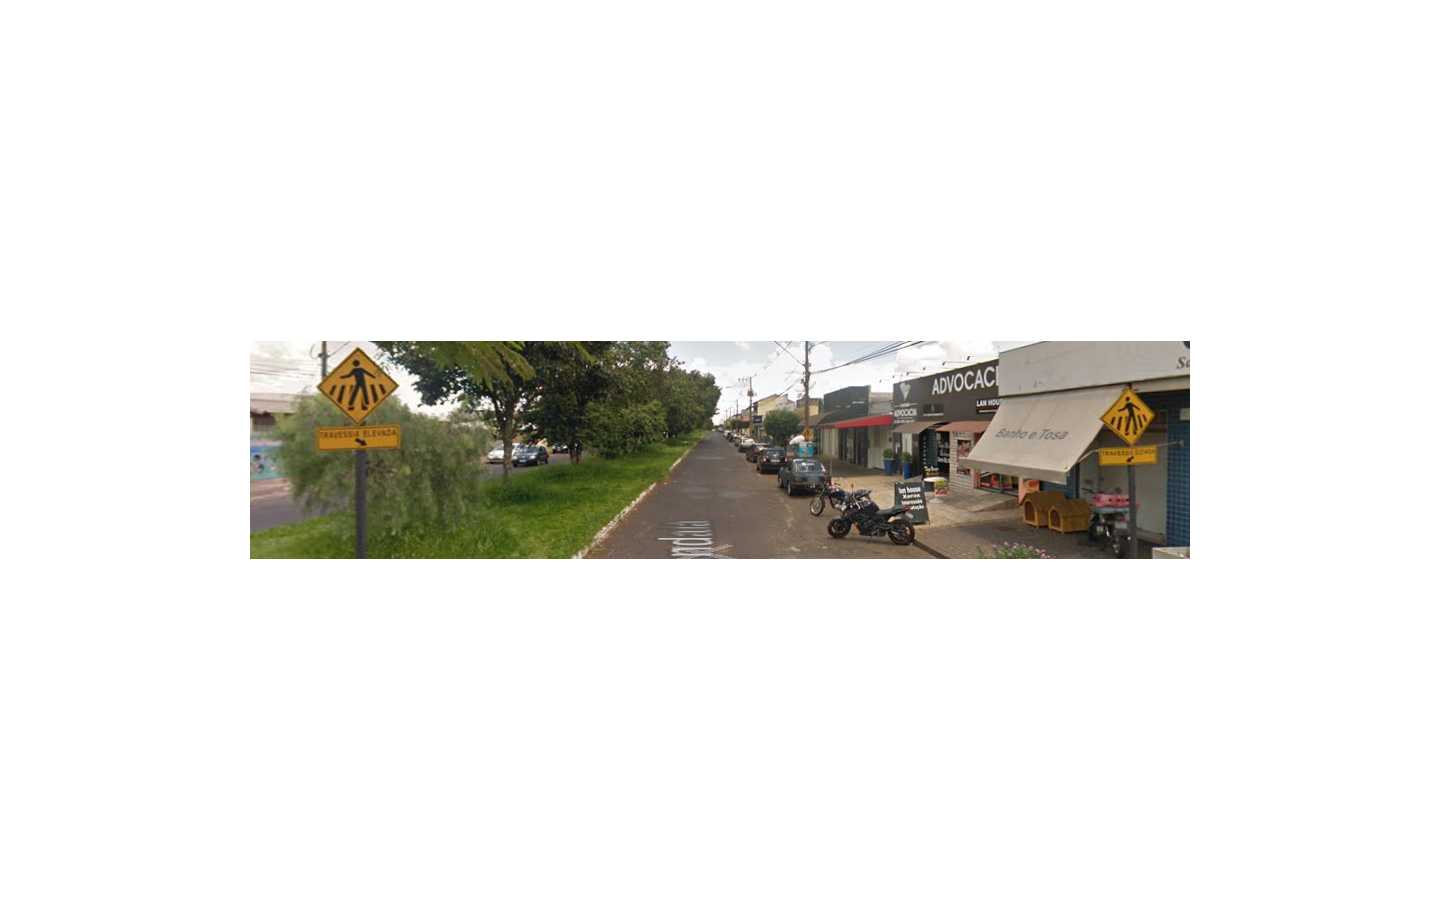telev: (316, 348, 399, 450), (1098, 387, 1156, 465)
